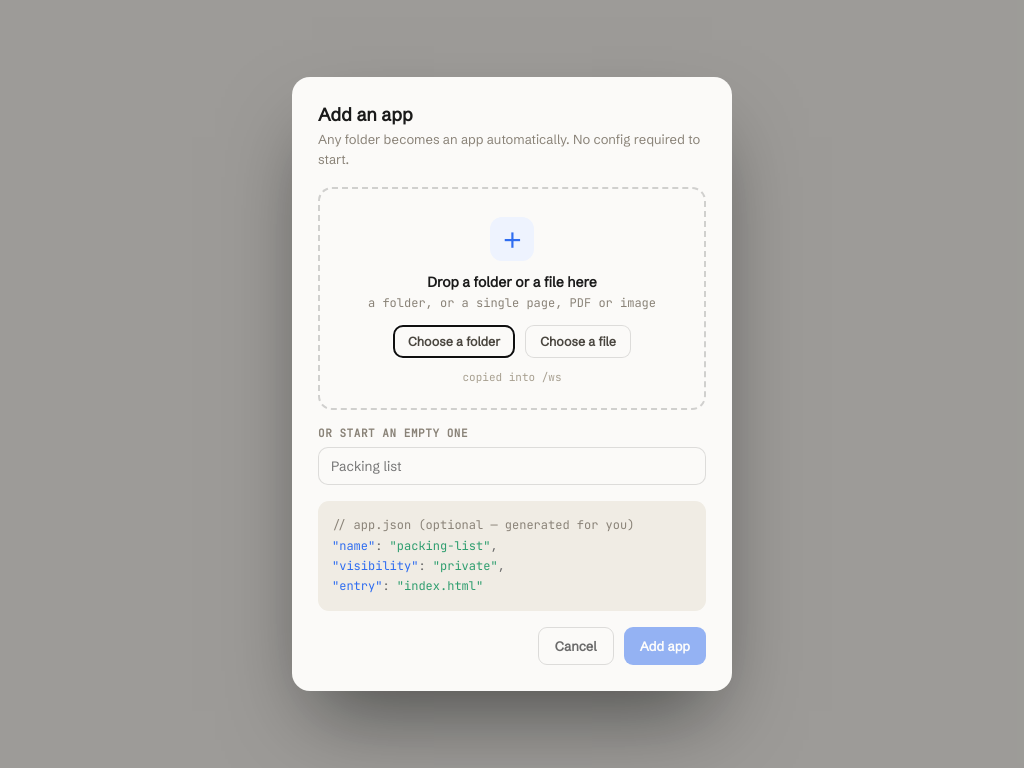
it: NewAppModal › previews the slug the daemon will pick
This screenshot has width=1024, height=768.
Type "Trip Planner!" into the field with placeholder "Packing list" at (512, 466), box [318,447,706,485]
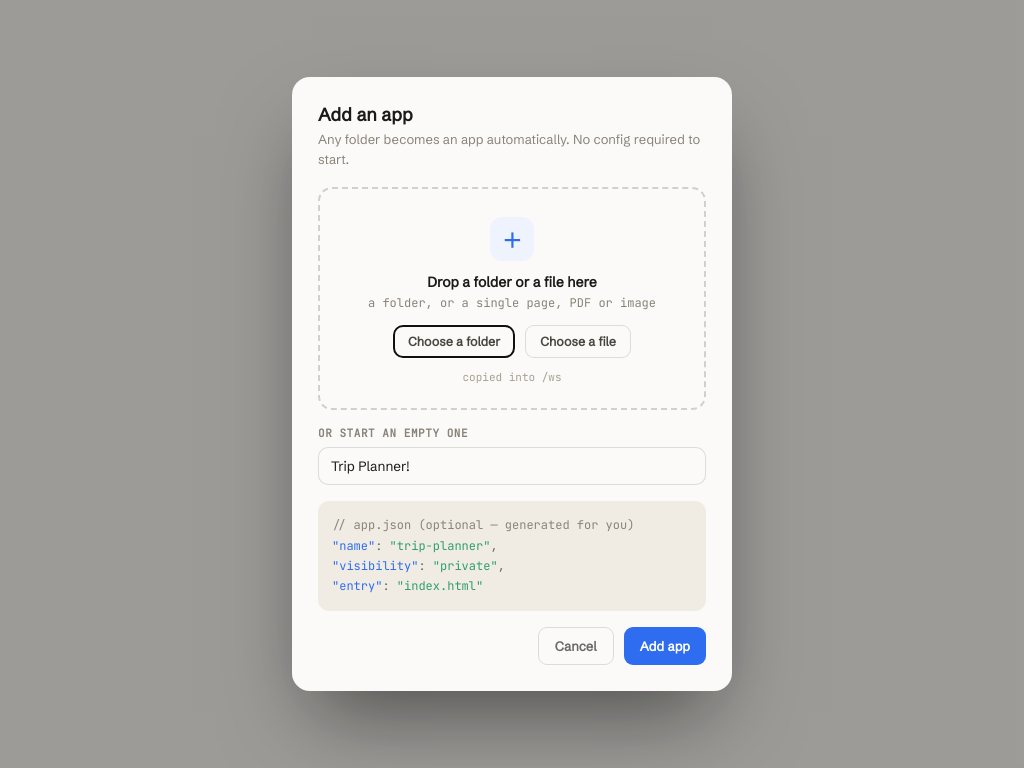
expect the text "\"trip-planner\"" is shown: met, box [390,538,490,554]
